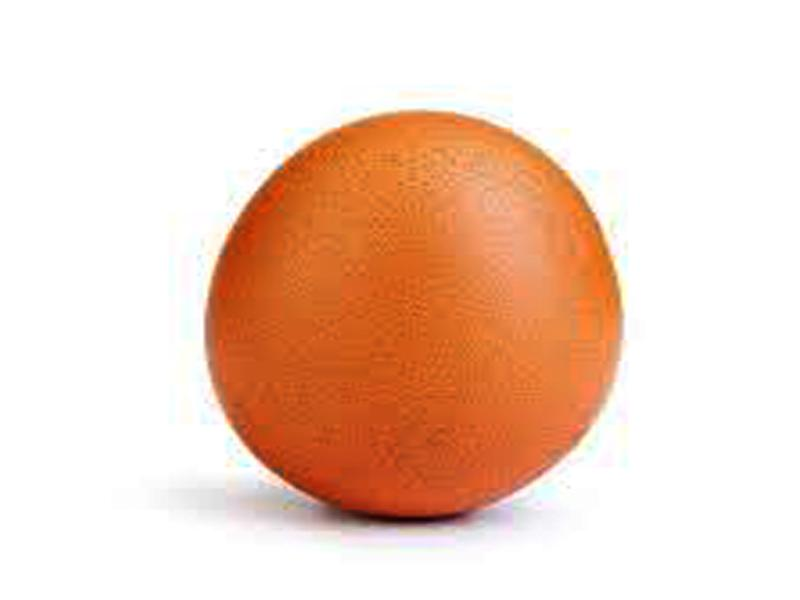Eggs: (207, 117, 620, 515)
